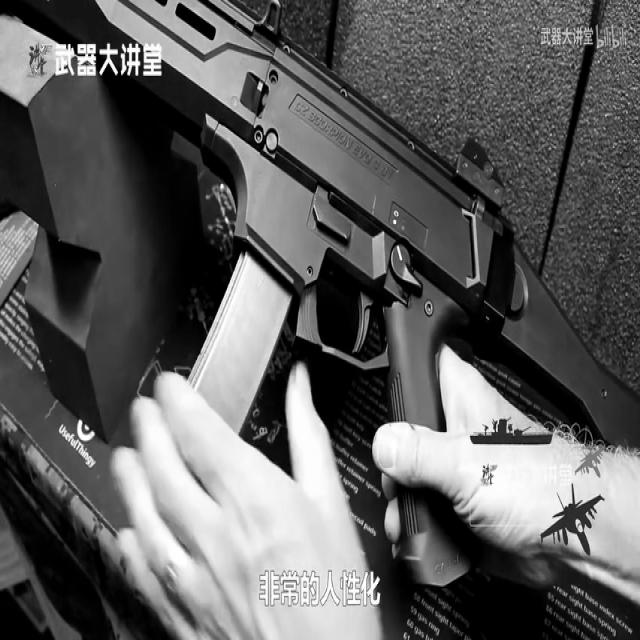Sub-machine-gun: (67, 0, 602, 567)
